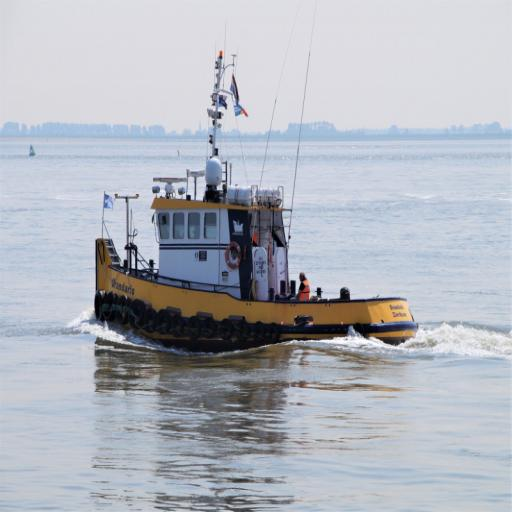tugboat: (91, 49, 423, 366)
